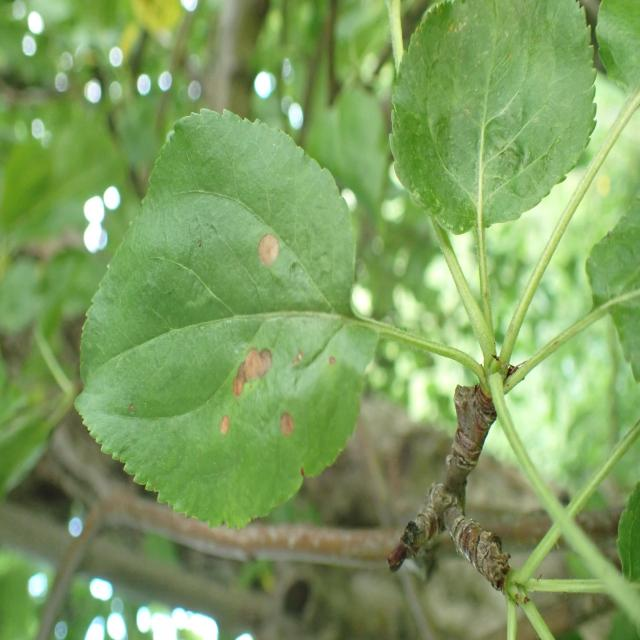Black Rot: (213, 329, 283, 402), (249, 206, 295, 293), (270, 410, 308, 445), (281, 341, 316, 379), (207, 406, 237, 446), (324, 344, 346, 374)
